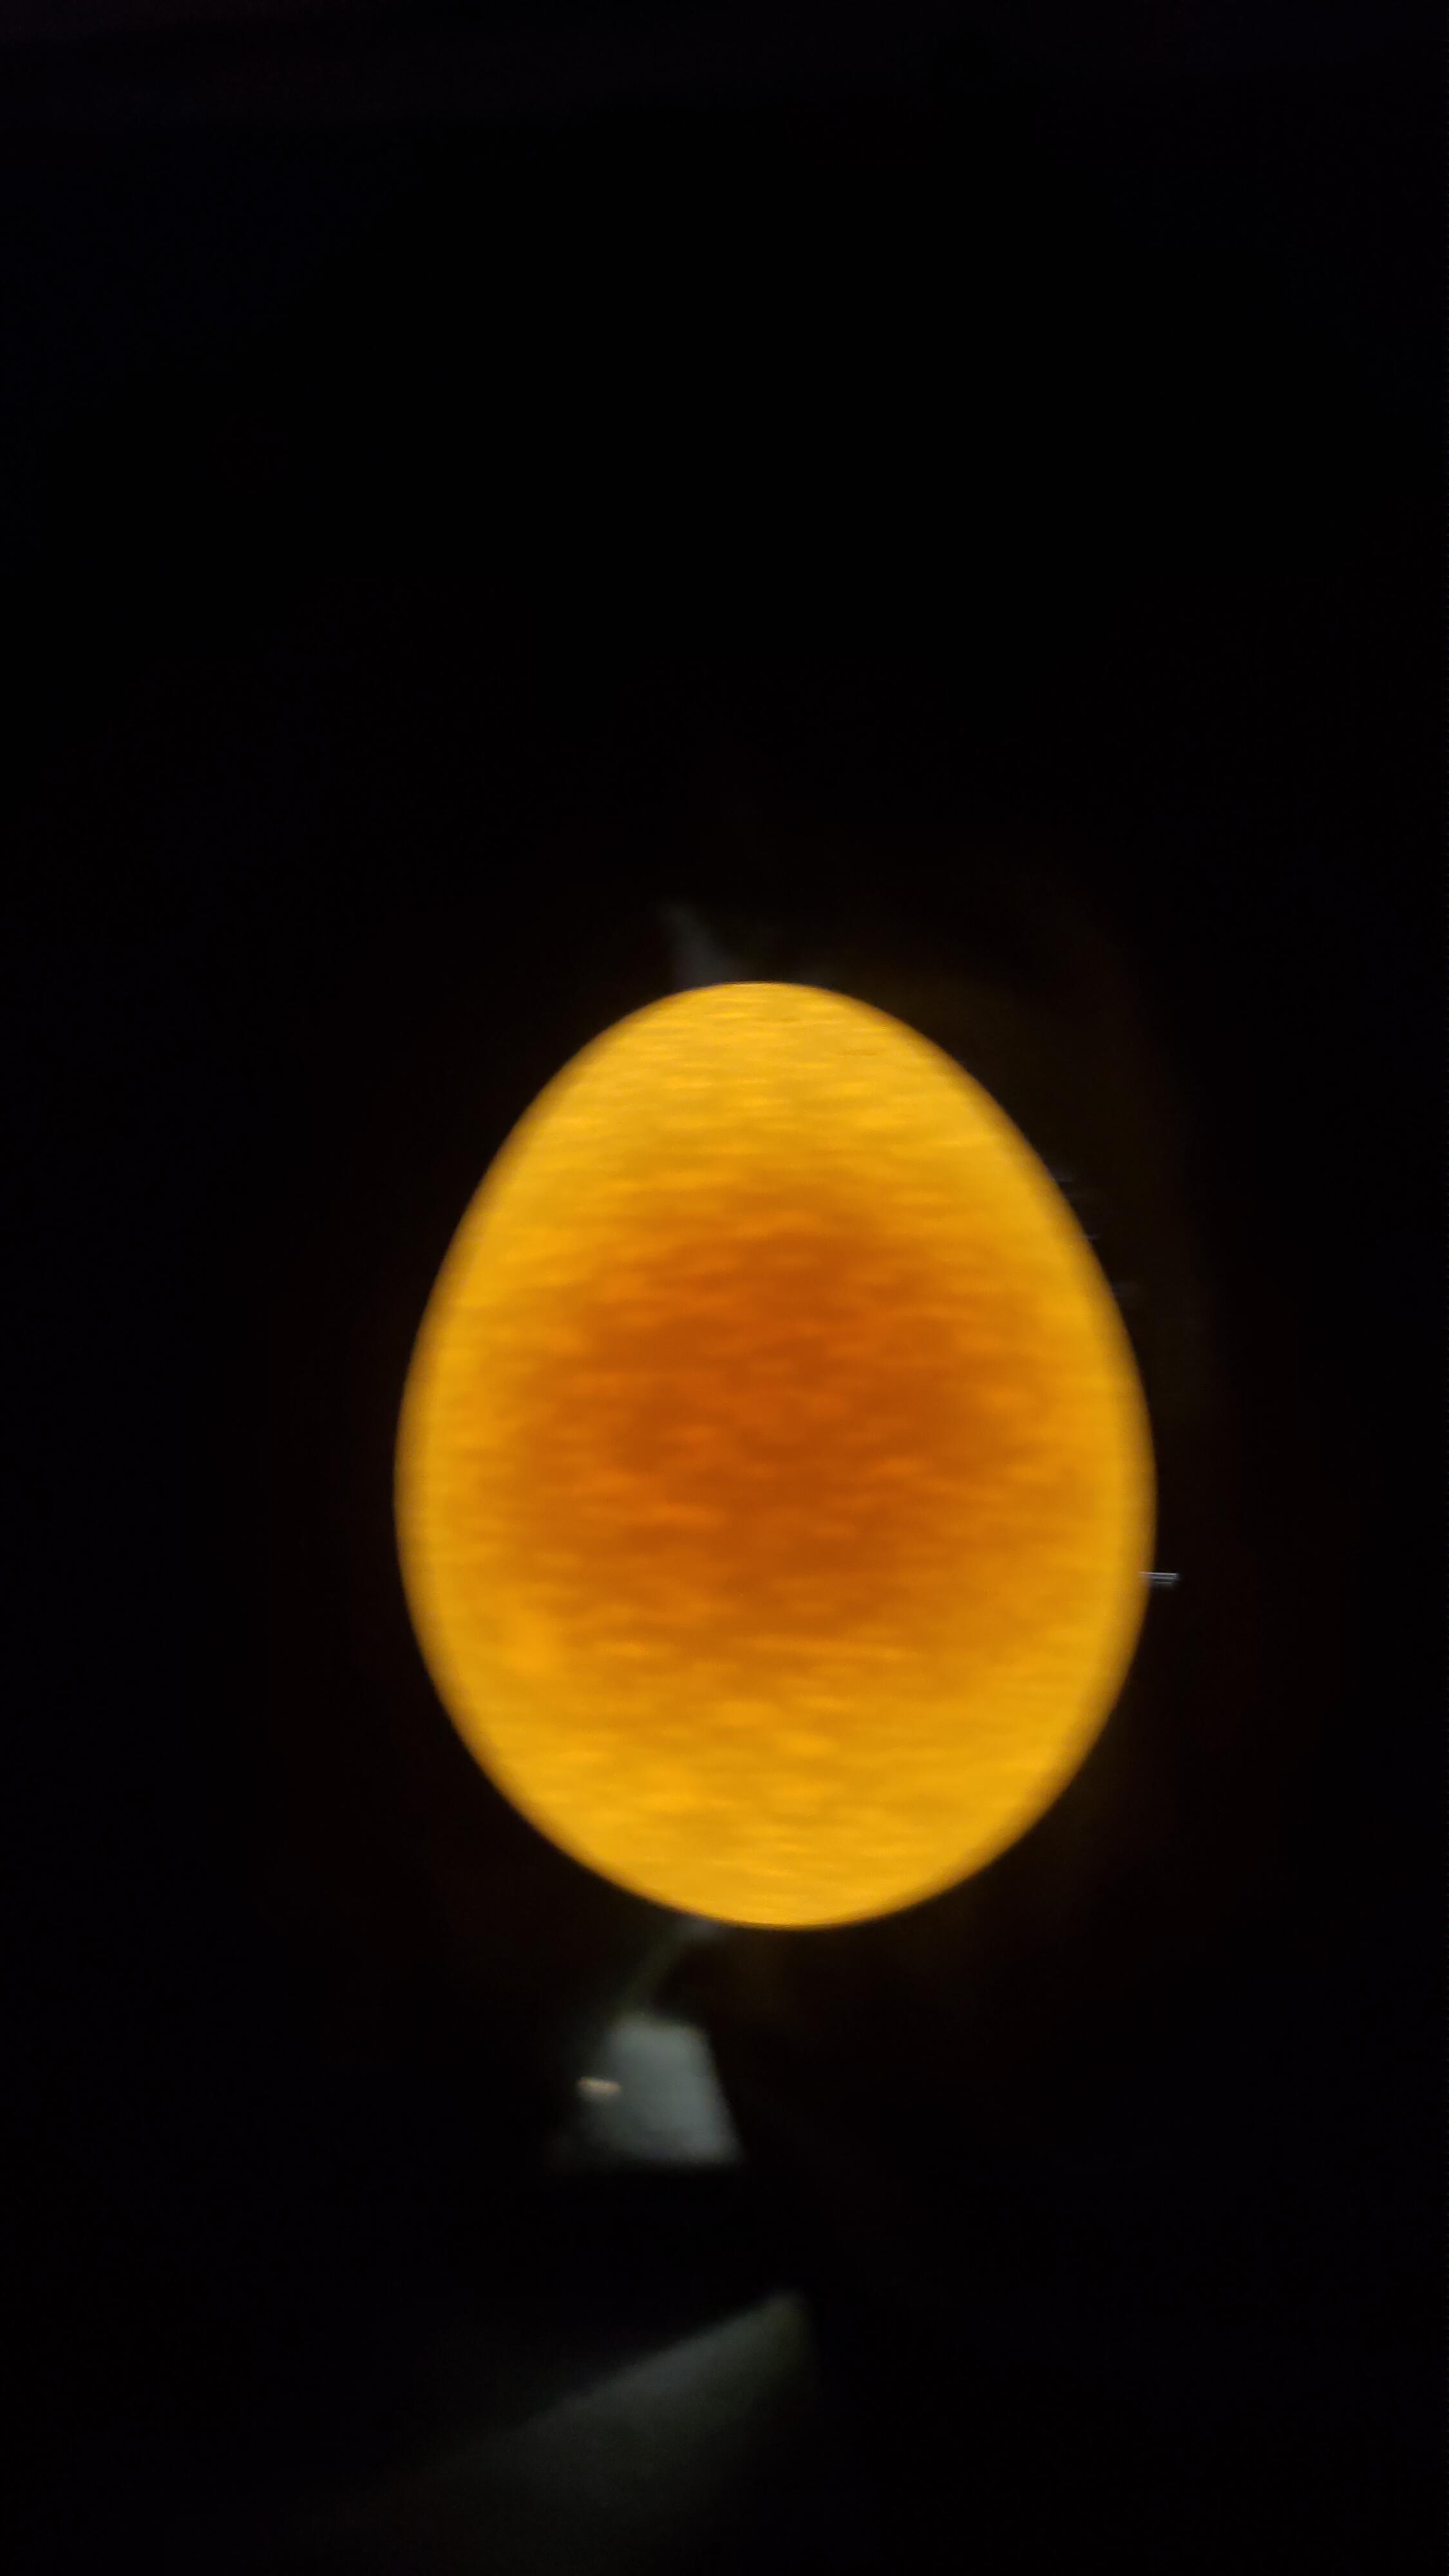A - Good: (310, 908, 1191, 1959)
